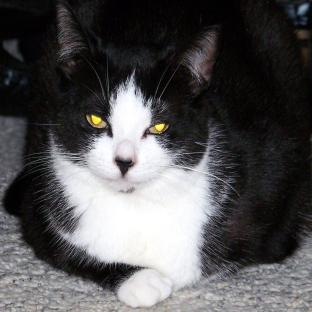Animal: (4, 0, 312, 308)
